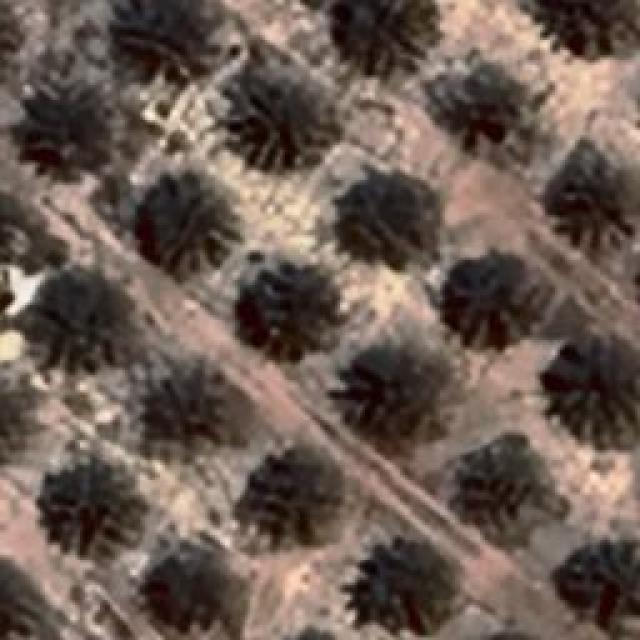PalmTree: (42, 448, 148, 558), (540, 334, 635, 448), (355, 557, 470, 640), (111, 0, 221, 85), (336, 350, 436, 440), (232, 82, 332, 170), (532, 0, 640, 78), (251, 455, 339, 550), (466, 447, 556, 535), (558, 150, 638, 248), (332, 0, 439, 72), (244, 264, 328, 354), (562, 542, 640, 636), (26, 298, 114, 380), (26, 91, 109, 171), (456, 256, 534, 339), (150, 178, 223, 266), (349, 186, 429, 266), (141, 368, 221, 448), (158, 552, 226, 640), (452, 70, 526, 148), (0, 555, 54, 640), (0, 372, 54, 456), (0, 184, 31, 282), (0, 0, 24, 84), (285, 622, 344, 640)
